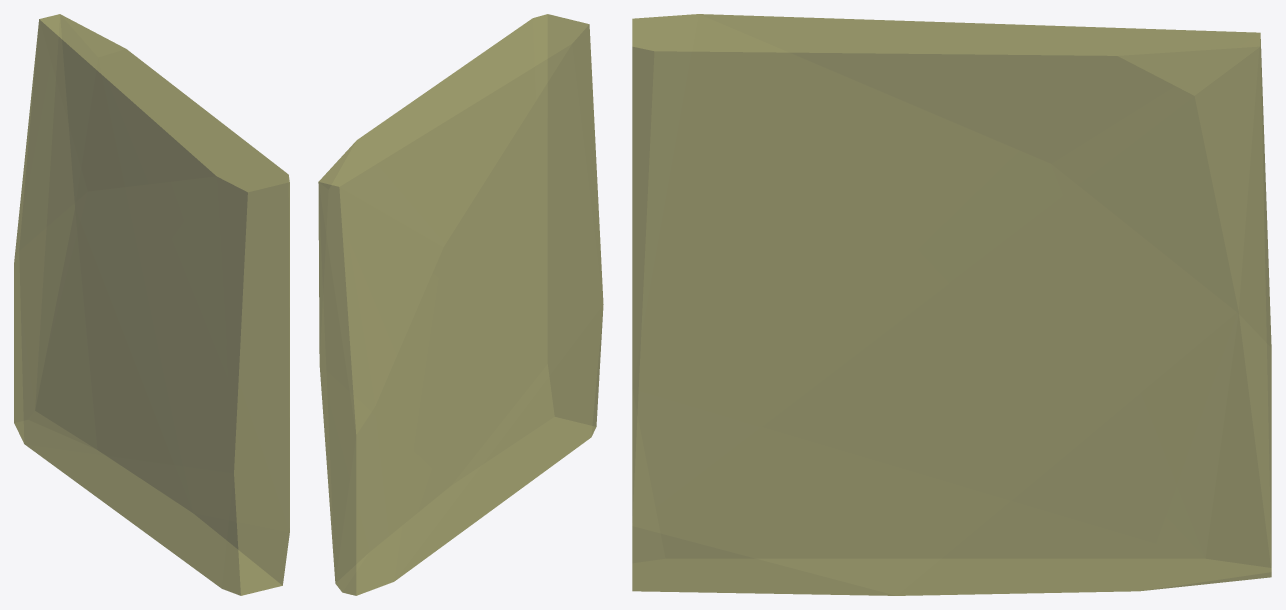
3 views of the same model, side by side, from view 1: azimuth 30°, elevation 25°; view 2: azimuth 150°, elevation 25°; view 3: azimuth 270°, elevation 25° (orthographic). The views are drawn at different scales.
Visible parts, largest first — view 1: Shape_IndexedFaceSet.006_Shape_IndexedFaceSet.1744; view 2: Shape_IndexedFaceSet.006_Shape_IndexedFaceSet.1744; view 3: Shape_IndexedFaceSet.006_Shape_IndexedFaceSet.1744.
Part boxes in pixels (x1,y1,x2,y2): Shape_IndexedFaceSet.006_Shape_IndexedFaceSet.1744: (14, 14, 289, 595); Shape_IndexedFaceSet.006_Shape_IndexedFaceSet.1744: (318, 14, 603, 595); Shape_IndexedFaceSet.006_Shape_IndexedFaceSet.1744: (632, 14, 1271, 595).
Size of the model in its own units: 0.0038 by 0.0209 by 0.022.
